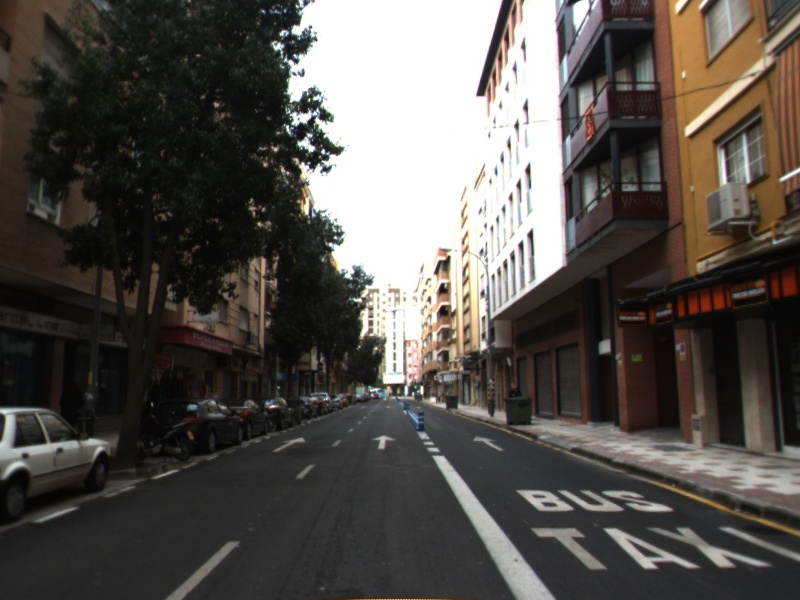STRAIGHT: (471, 433, 507, 453), (270, 435, 307, 454), (369, 433, 399, 451)
